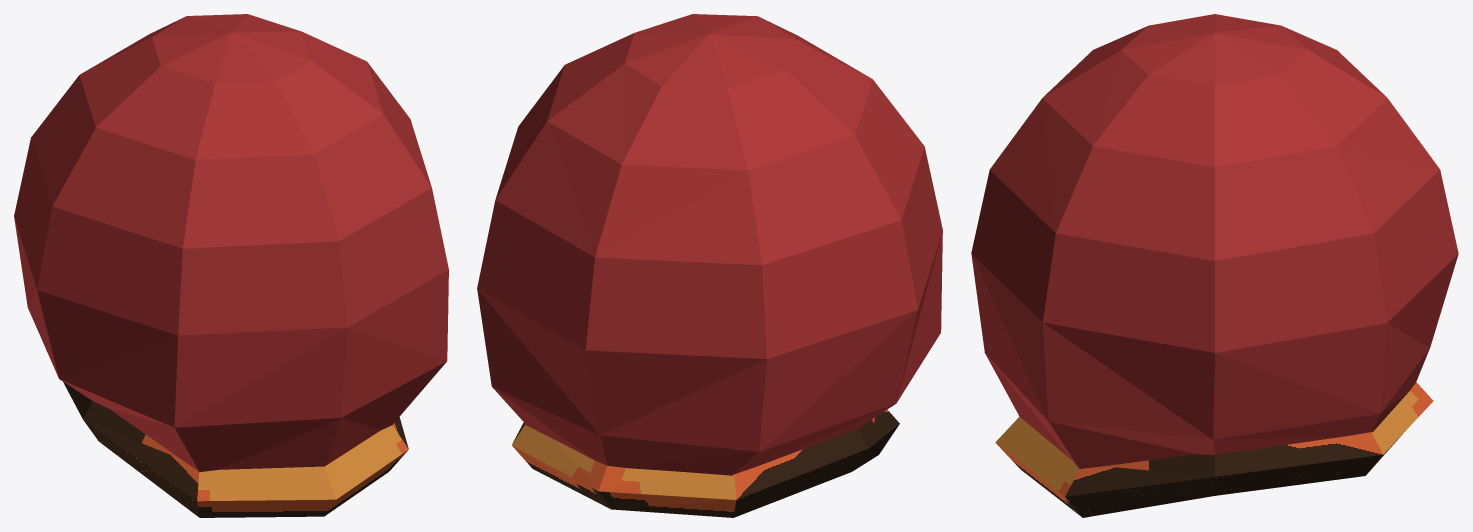
3 renders of one model, left to right at view 1: azimuth 30°, elevation 25°; view 2: azimuth 150°, elevation 25°; view 3: azimuth 270°, elevation 25°, orthographic. The views are drawn at different scales.
Visible parts, largest first — view 1: Sphere.003; view 2: Sphere.003; view 3: Sphere.003.
Part boxes in pixels (box(x1,y1,x2,y2)): Sphere.003: box(14, 14, 448, 517); Sphere.003: box(477, 14, 942, 517); Sphere.003: box(971, 14, 1458, 517).
Bounding box in the file's own units: 0.6928 × 0.7093 × 0.7179.
